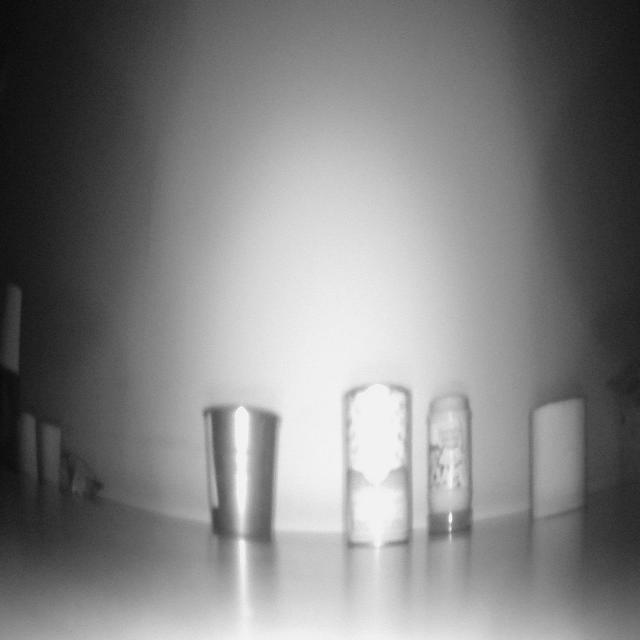targets: (200, 392, 283, 550), (342, 378, 413, 545), (529, 396, 587, 521), (427, 390, 474, 535), (46, 438, 115, 503), (608, 348, 640, 474), (0, 285, 27, 380), (37, 418, 62, 489), (18, 414, 41, 484)
